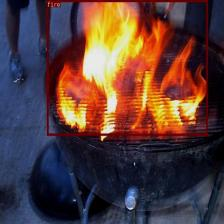fire: (47, 0, 207, 135)
